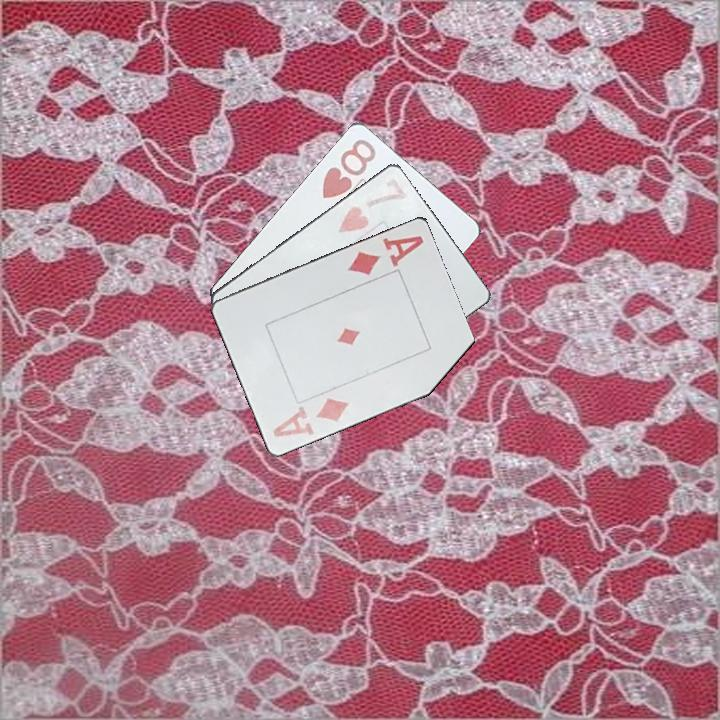7h: (334, 174, 410, 235)
8h: (318, 135, 379, 201)
Ad: (344, 232, 427, 279), (269, 393, 352, 440)
